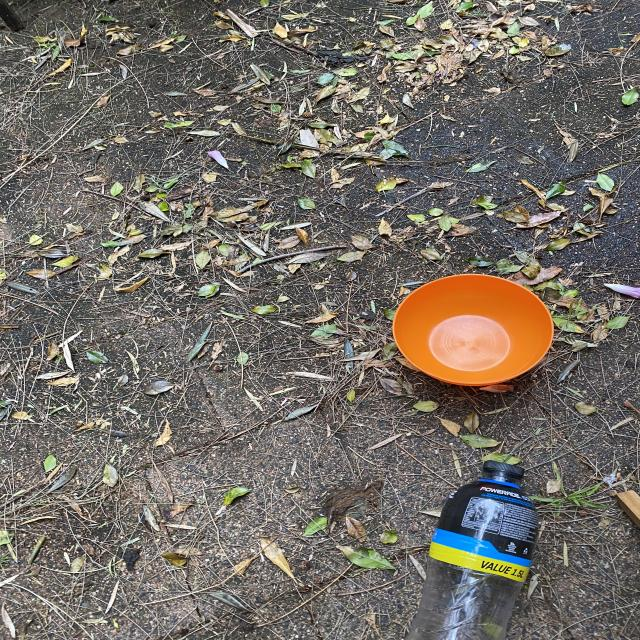bottle: (404, 458, 539, 640)
bowl: (392, 274, 554, 386)
